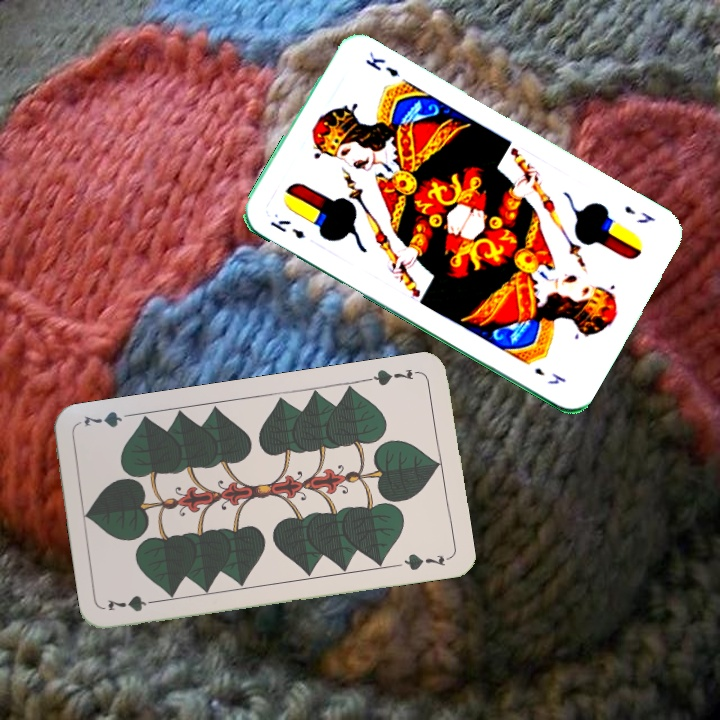EK: (266, 215, 308, 242), (620, 201, 658, 227)
G7: (103, 591, 163, 615), (363, 364, 422, 388)
